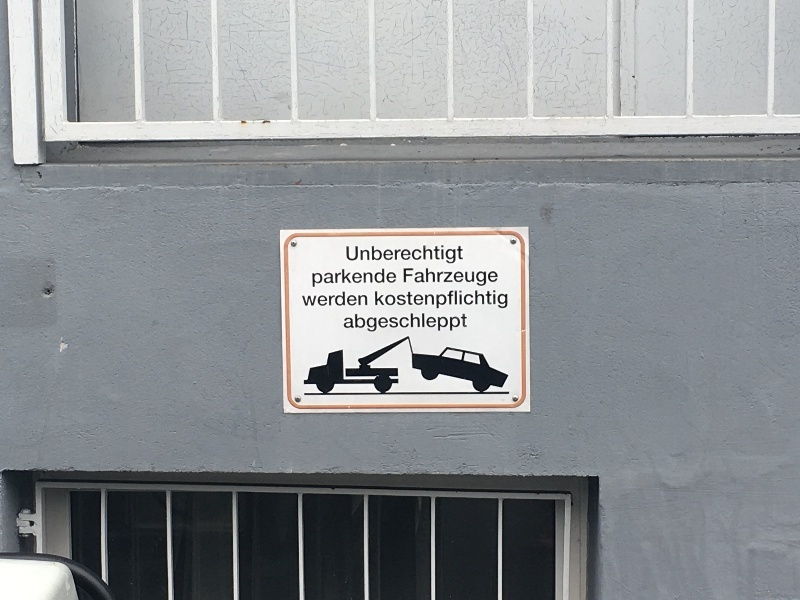text: (353, 313, 368, 335), (369, 313, 384, 335), (385, 313, 400, 335), (401, 313, 416, 335), (417, 313, 432, 335), (433, 313, 448, 335), (449, 313, 464, 335), (385, 290, 400, 312), (401, 290, 416, 312), (417, 290, 432, 312), (433, 290, 448, 312), (449, 290, 464, 312), (465, 290, 480, 312), (481, 290, 496, 312), (481, 268, 497, 288), (417, 268, 432, 288), (433, 268, 448, 288), (449, 268, 464, 288), (465, 268, 480, 288), (353, 245, 368, 265), (369, 245, 384, 265), (385, 245, 400, 265), (401, 245, 416, 265), (417, 245, 432, 265), (433, 245, 448, 265), (321, 268, 336, 288), (337, 268, 352, 288), (353, 268, 368, 288), (369, 268, 384, 288), (449, 245, 463, 265), (403, 268, 416, 288), (497, 290, 508, 312), (305, 291, 320, 307), (321, 291, 336, 307), (337, 291, 352, 307), (353, 291, 368, 307), (385, 268, 397, 288), (375, 290, 384, 312), (345, 313, 352, 335), (313, 268, 320, 288), (347, 245, 352, 265), (465, 313, 468, 335), (302, 291, 304, 307)
